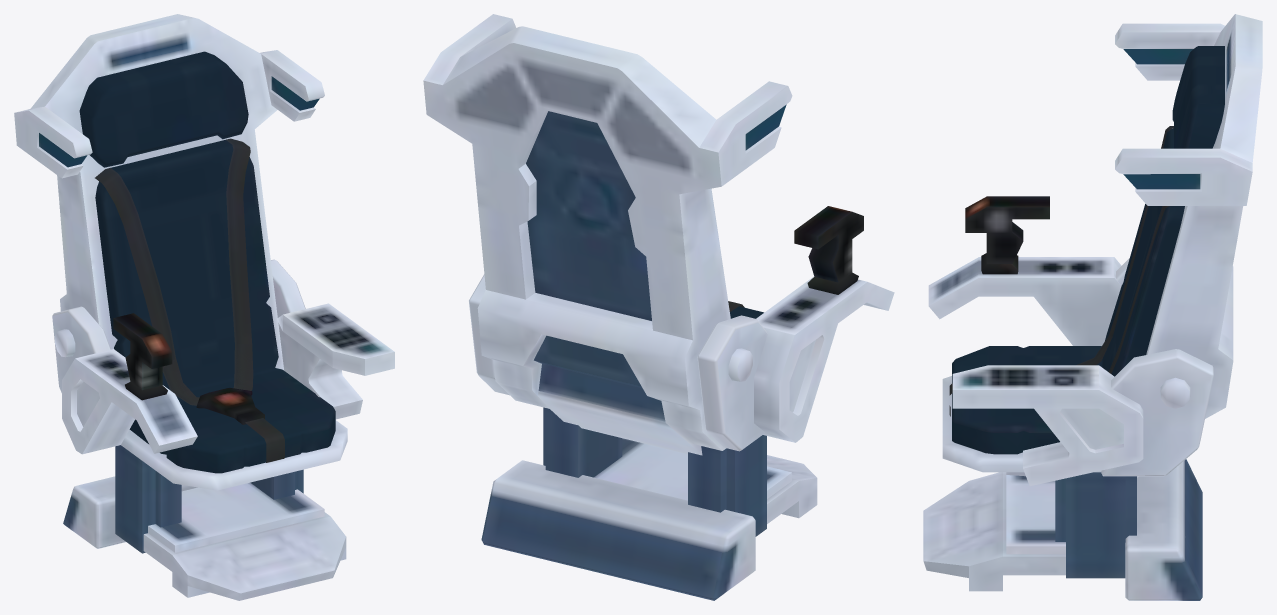
The picture shows the model from 3 angles, left to right: view 1: azimuth 30°, elevation 25°; view 2: azimuth 150°, elevation 25°; view 3: azimuth 270°, elevation 25°; orthographic projection. The views are drawn at different scales.
Size of the model in its own units: 9.34 by 16.42 by 9.92.
1 material, 1 textured.
